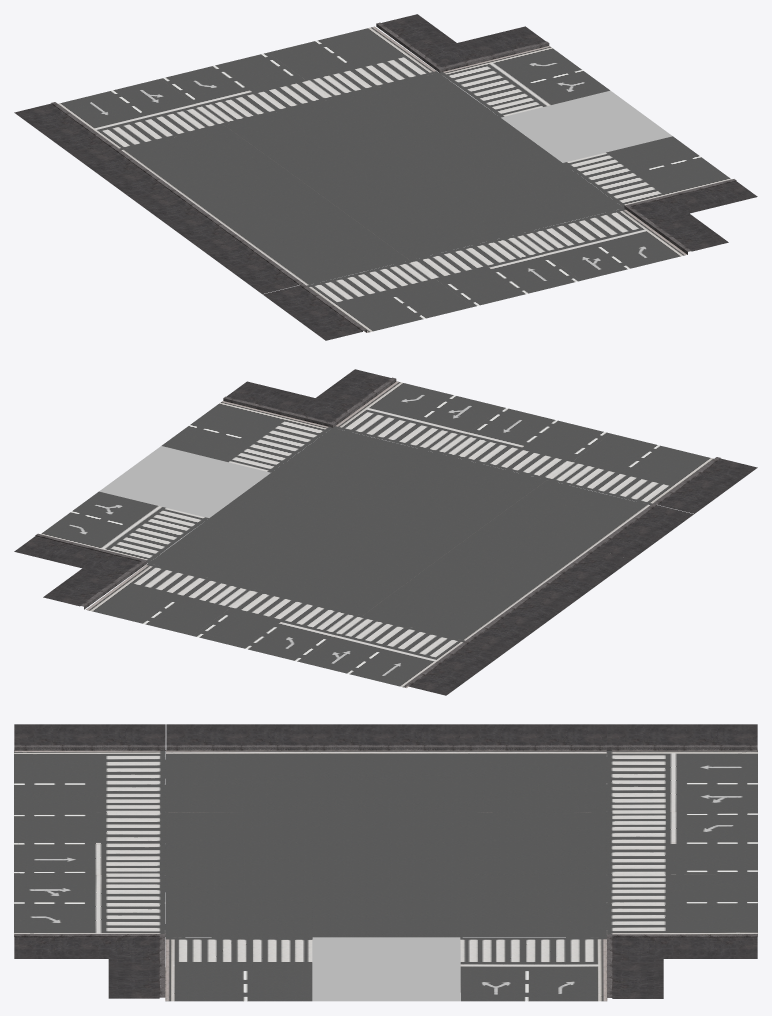
The model's file is 6 line T intersection.FBX.
The picture shows the model from 3 angles, top to bottom: view 1: azimuth 30°, elevation 25°; view 2: azimuth 150°, elevation 25°; view 3: azimuth 270°, elevation 25°; orthographic projection. The views are drawn at different scales.
Visible parts, largest first — view 1: Plane100; view 2: Plane100; view 3: Plane100.
Boxes of the visible parts, <box> form: Plane100: <box>14,14,757,340</box>; Plane100: <box>14,369,757,695</box>; Plane100: <box>14,724,757,1001</box>.
Bounding box in the file's own units: 51.58 × 0.3187 × 59.07.
